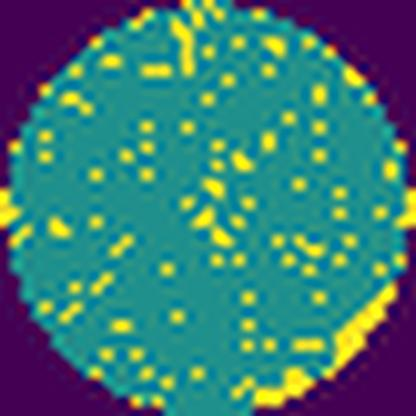Edge-Loc: (322, 276, 406, 384), (251, 365, 316, 408), (0, 188, 24, 226), (395, 188, 416, 228)
